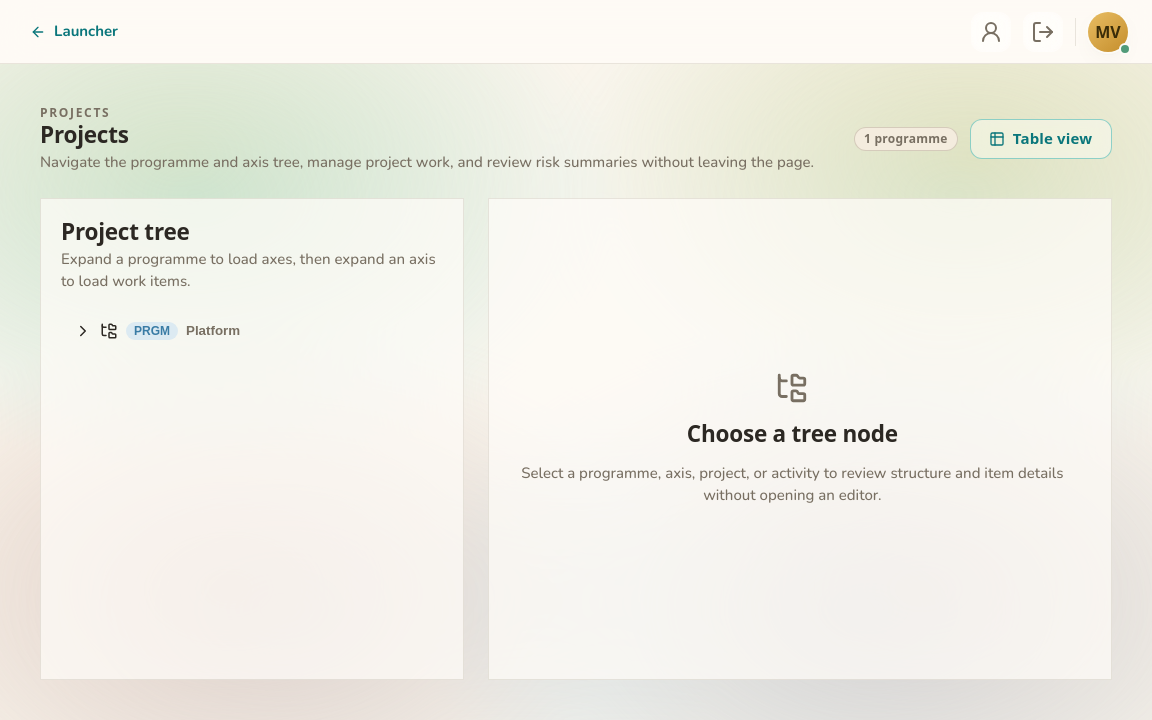
Test: Projects page › keeps tree selection keyboard accessible while risk and edit actions stay in details
This screenshot has width=1152, height=720.
Click the button "PRGM Platform" at (240,331), box [61,313,420,349]
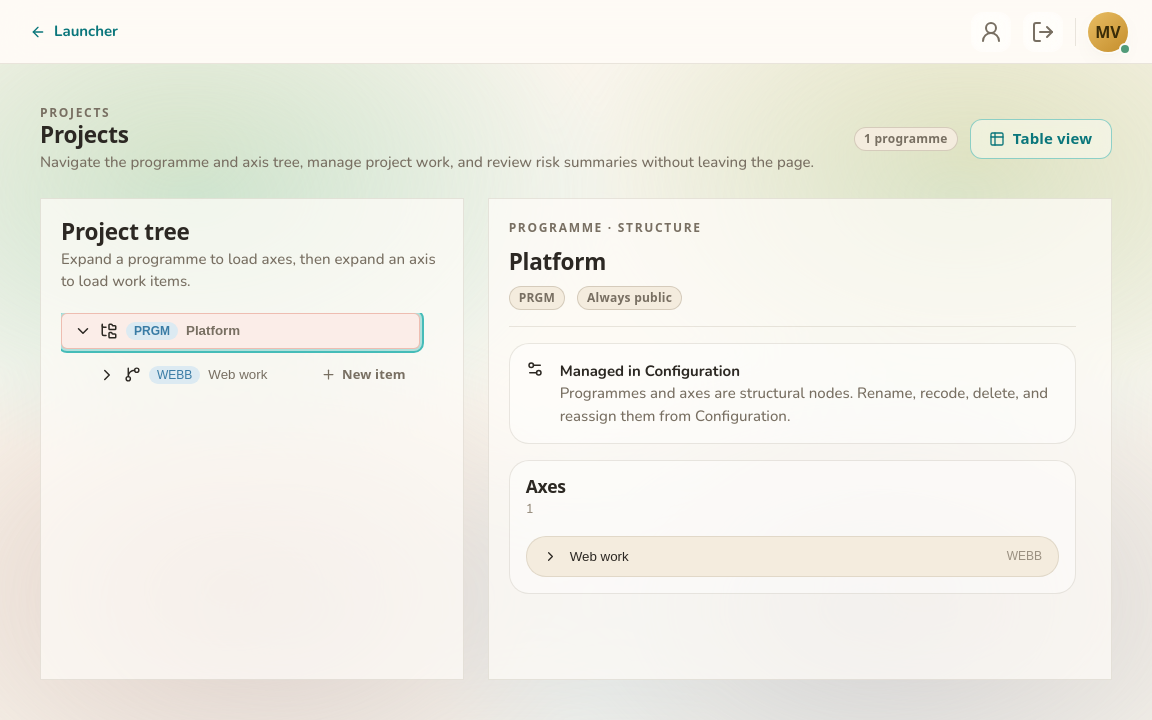
Click the button "WEBB Web work" at (188,375), box [85,357,290,393]
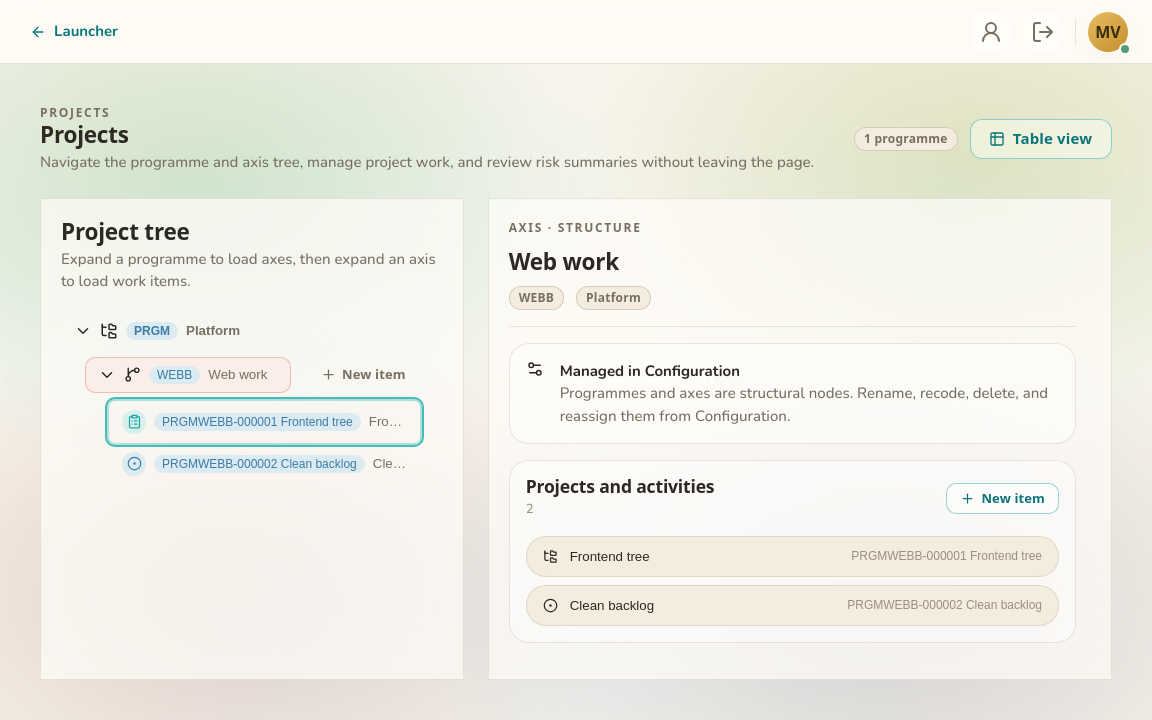
Type keys "[Enter]"
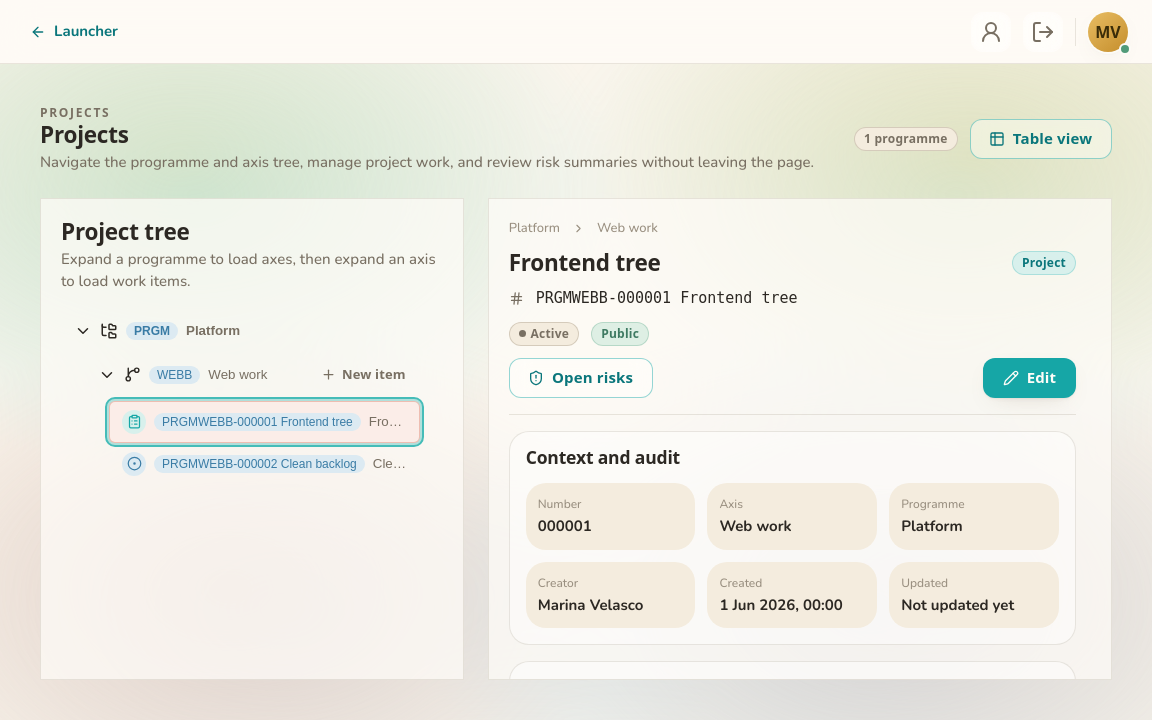
Result: the heading "Frontend tree" is shown at [509,250,661,275]
Result: the number of buttons "Open risks" is 2
Result: the button "Edit" is shown at [983,358,1076,398]
